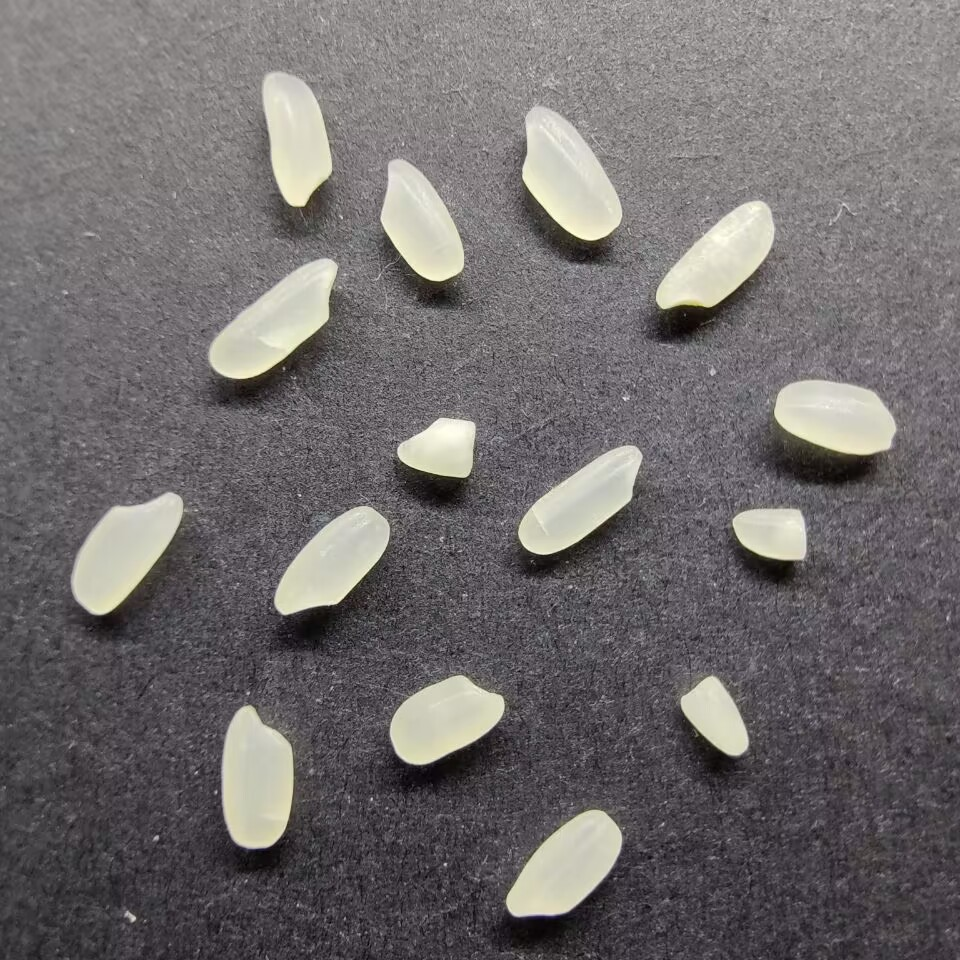broken: (677, 675, 750, 757), (394, 414, 476, 481), (731, 505, 807, 564)
rice: (205, 255, 339, 382), (67, 490, 183, 617), (518, 103, 623, 243), (515, 444, 642, 556), (655, 198, 778, 310), (271, 503, 392, 616), (503, 806, 623, 919), (386, 672, 505, 767), (378, 157, 467, 283), (221, 703, 295, 850), (259, 71, 333, 208), (772, 379, 897, 456)
